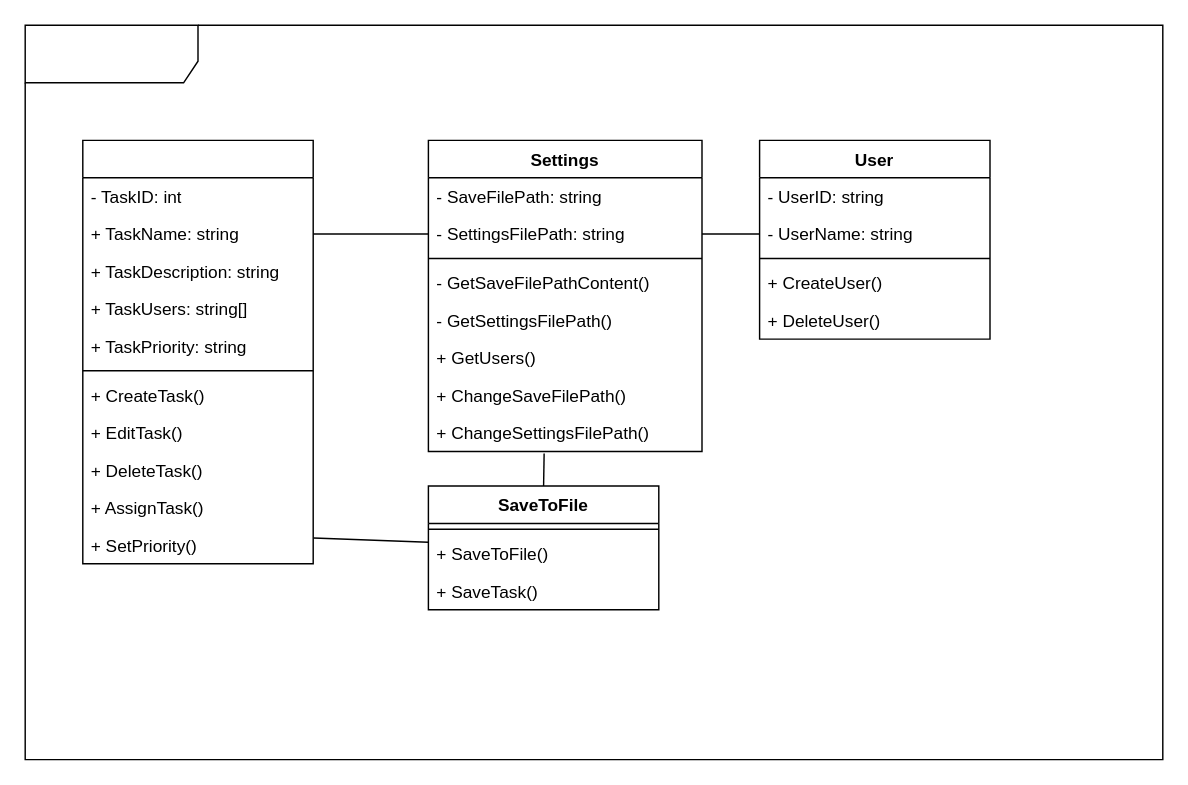
This 1188x785 diagram has some shape labels left out. The shapes that lost their labels are listed below. From the top down, each one's box as (x1, y1, x2, y2) in pixels, then its label:
(81, 139, 313, 564): ManageTask
(24, 24, 1163, 760): To-Do Application
